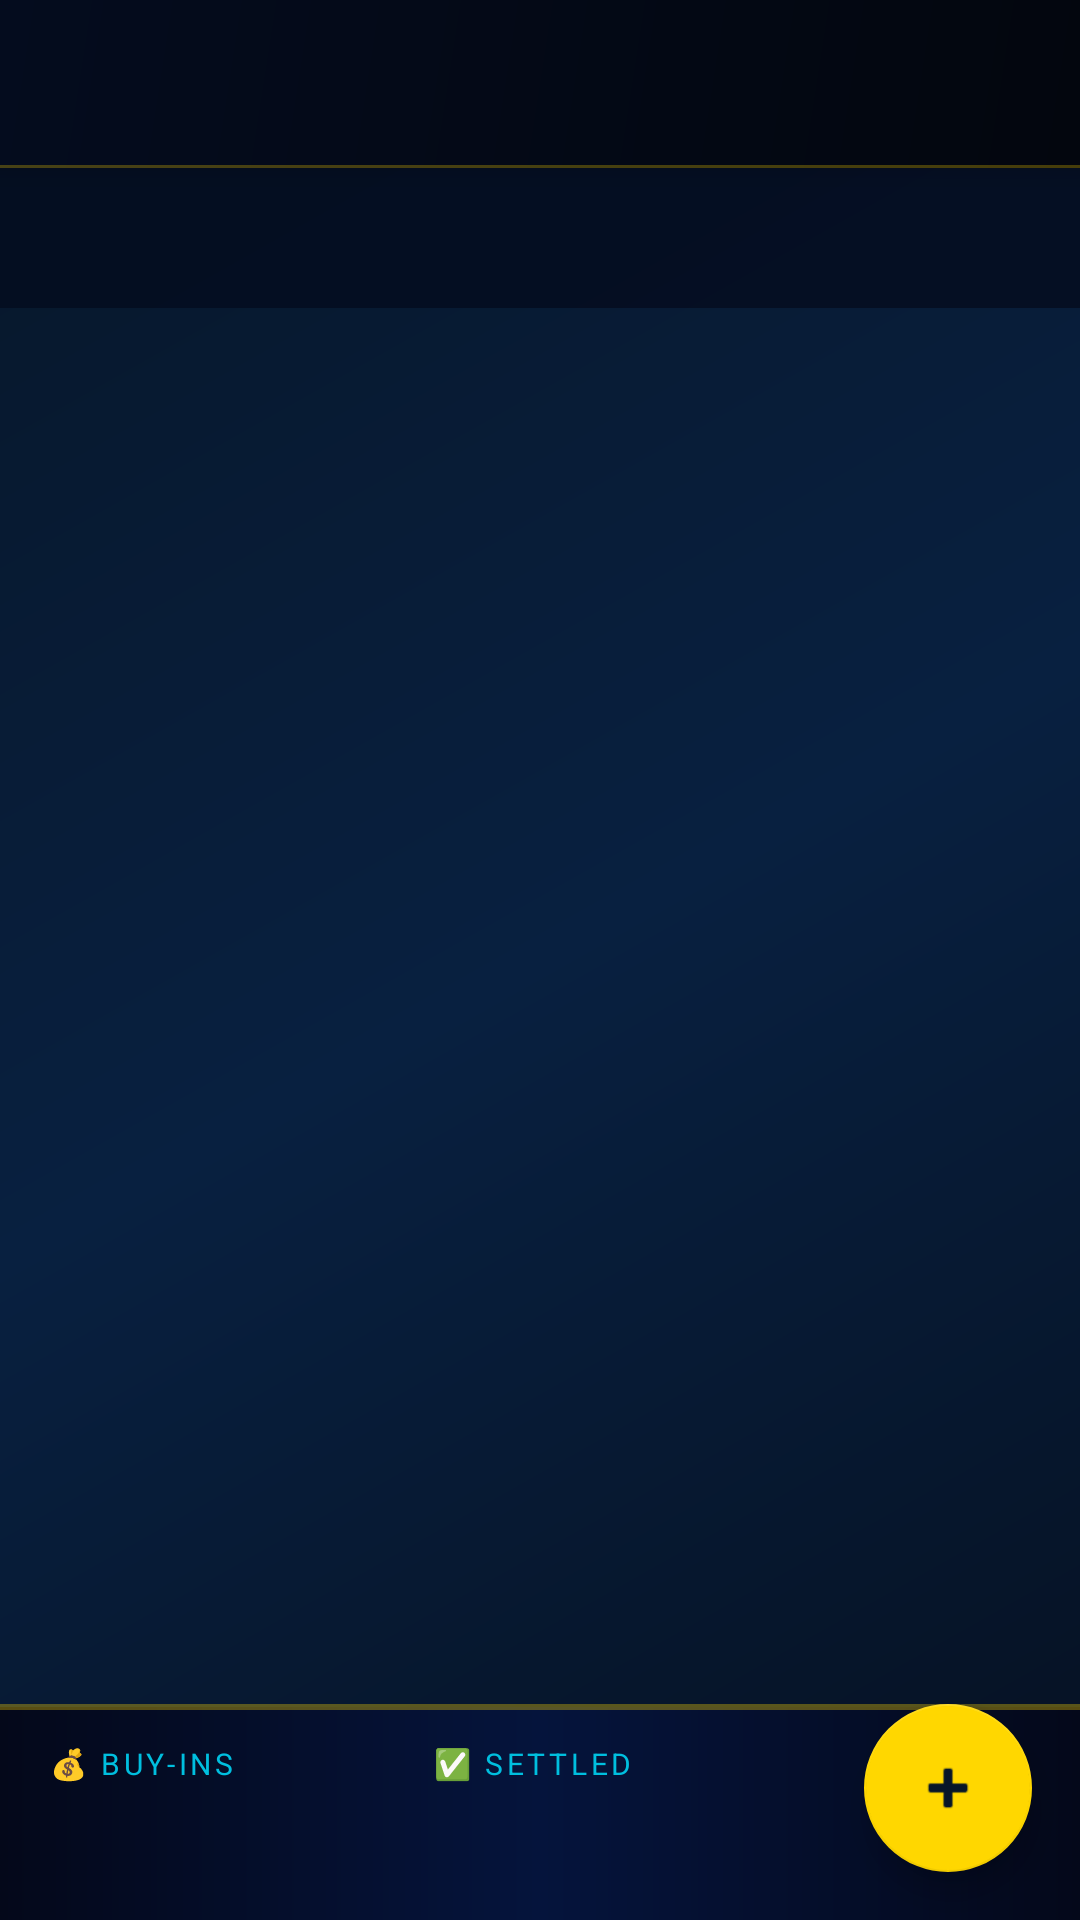

Icons on this 1080w x 1920h Android screen, each with its box as box=[x1, y1, x2, y2]:
Add player: box=[864, 1704, 1032, 1872]
